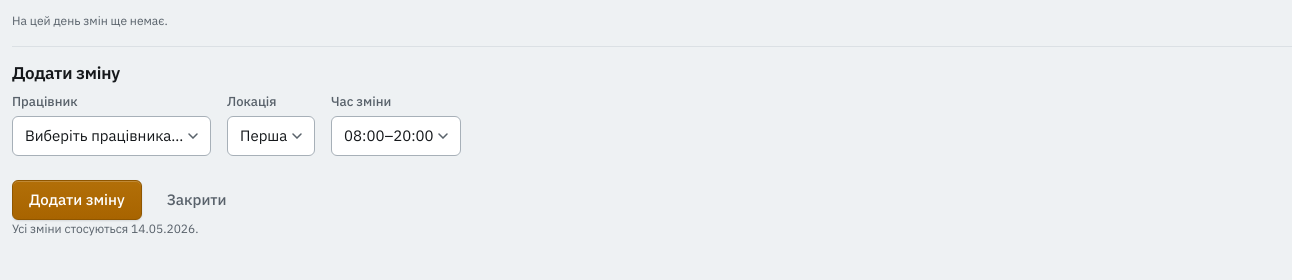
Test case: DayEditor › refuses to submit without an employee rather than sending a blank id
Step 1. Click the button "Додати зміну" → point(77, 200), box [12, 180, 142, 220]
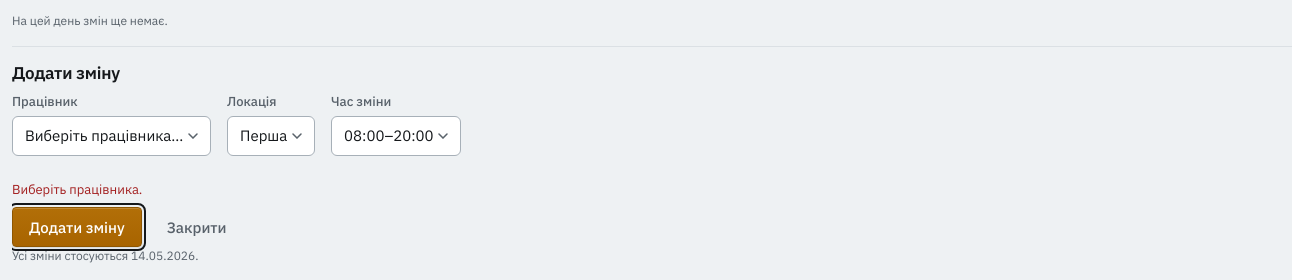
Check: the text "Виберіть працівника." is shown, box [12, 181, 142, 198]
